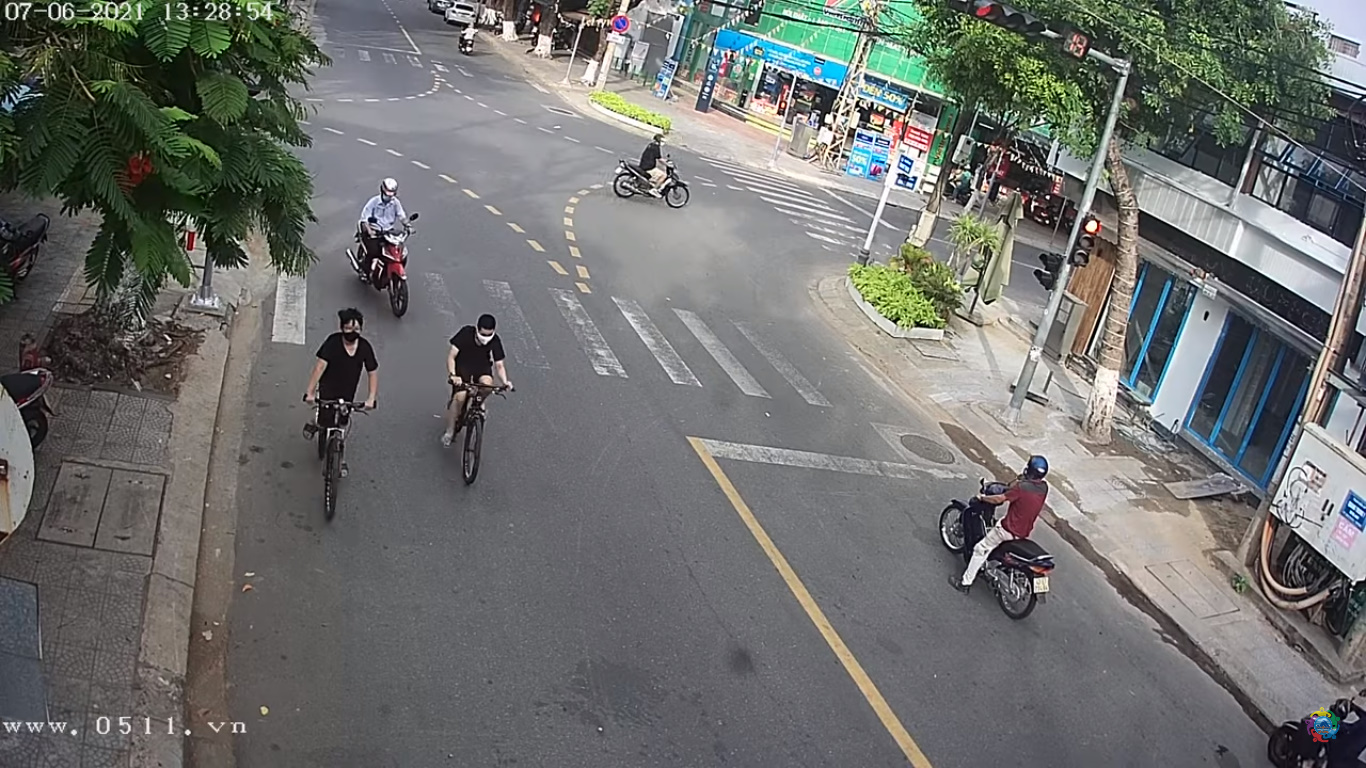motorbike: (945, 444, 1053, 618), (347, 172, 418, 314)
